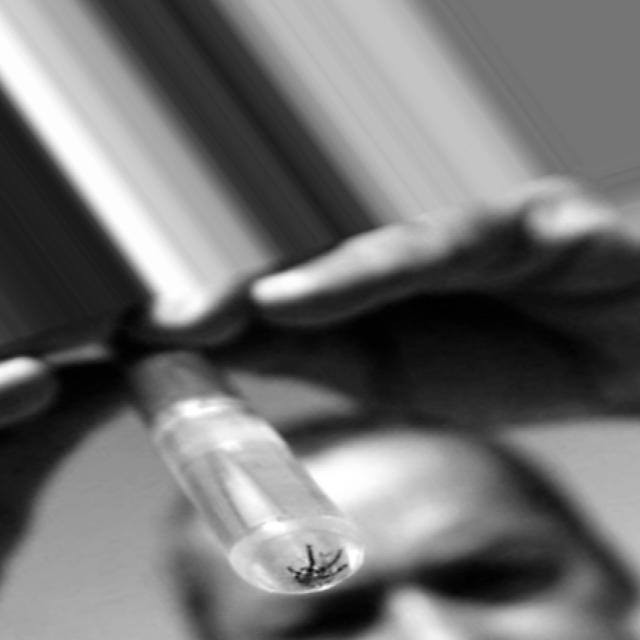larvas: (315, 562, 348, 585), (317, 547, 343, 575), (298, 565, 314, 585), (305, 544, 317, 567), (288, 567, 301, 579)
